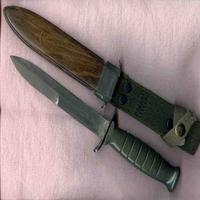knife: (5, 50, 178, 185)
